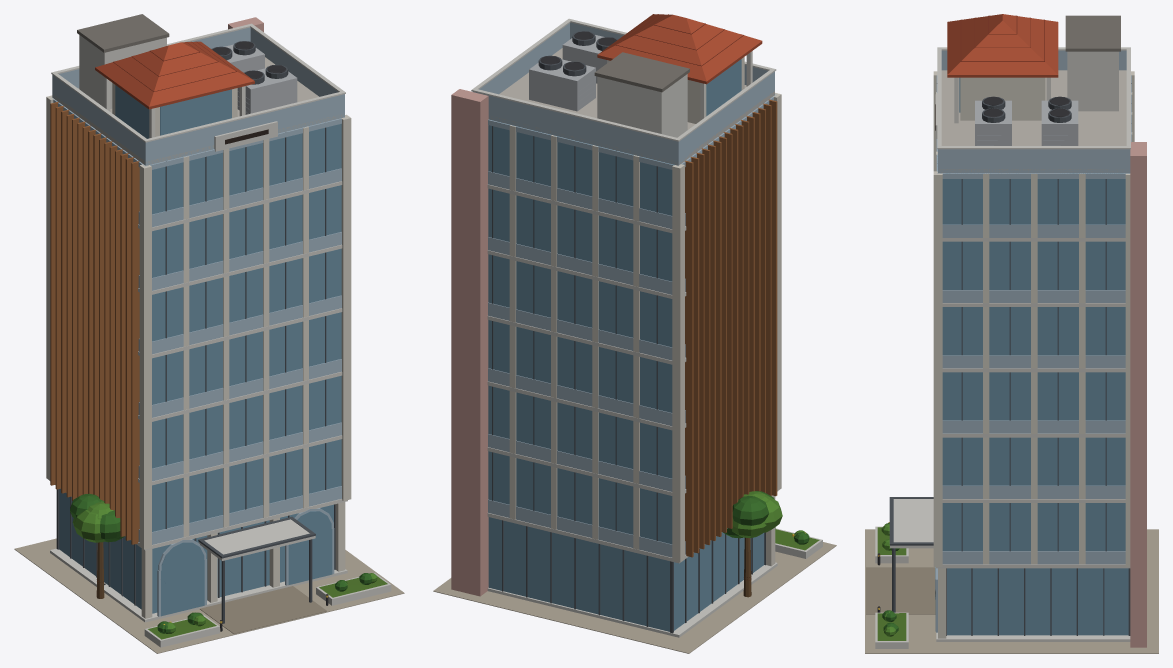
Rendered from shop_3.glb.
3 views of the same model, side by side, from view 1: azimuth 30°, elevation 25°; view 2: azimuth 150°, elevation 25°; view 3: azimuth 270°, elevation 25° (orthographic). The views are drawn at different scales.
Visible parts, largest first — view 1: body; view 2: body; view 3: body.
Part boxes in pixels (<box>): body: <box>14,14,404,653</box>; body: <box>433,14,836,653</box>; body: <box>865,14,1158,653</box>.
Bounding box in the file's own units: 16.66 × 33.21 × 15.9.
